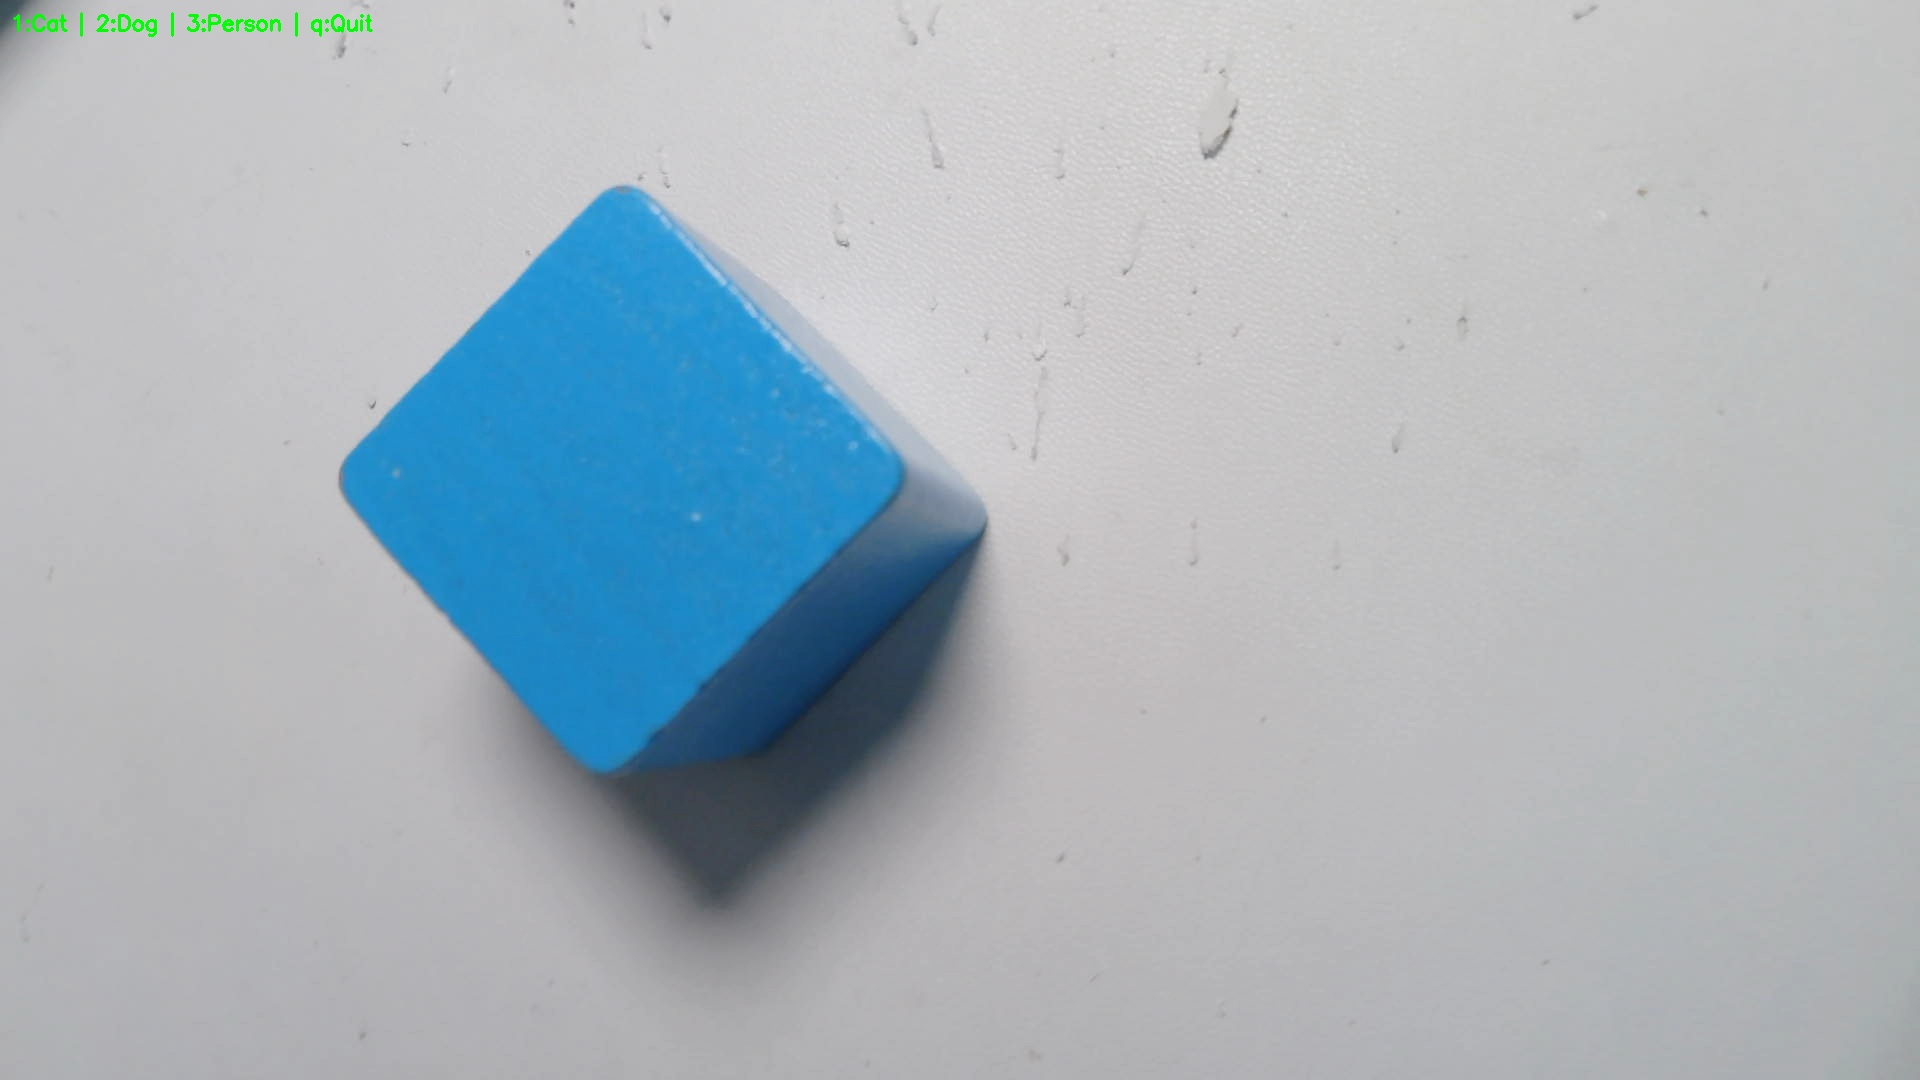blue: (334, 183, 989, 783)
